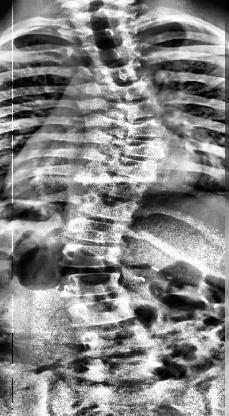Vertebrae: (78, 321, 156, 359), (67, 294, 139, 332), (67, 214, 131, 248), (61, 268, 127, 298), (80, 190, 138, 224), (86, 56, 150, 86), (92, 76, 160, 104), (60, 245, 132, 271), (82, 37, 144, 67), (92, 170, 150, 202), (103, 151, 161, 182), (103, 96, 167, 124), (107, 136, 168, 164), (105, 117, 171, 141), (76, 22, 130, 43)
